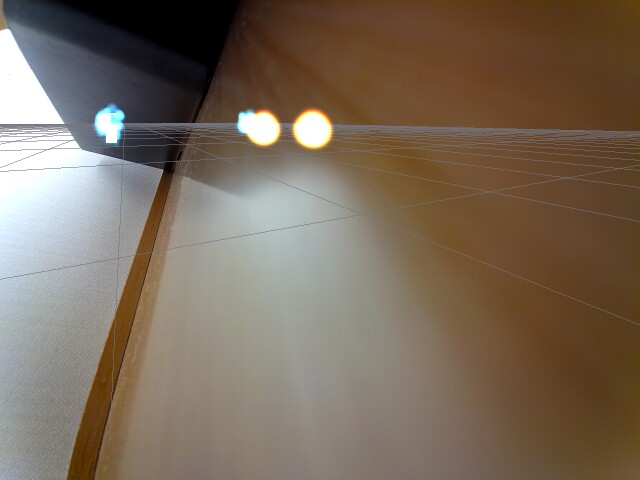firebig: (288, 108, 335, 153)
